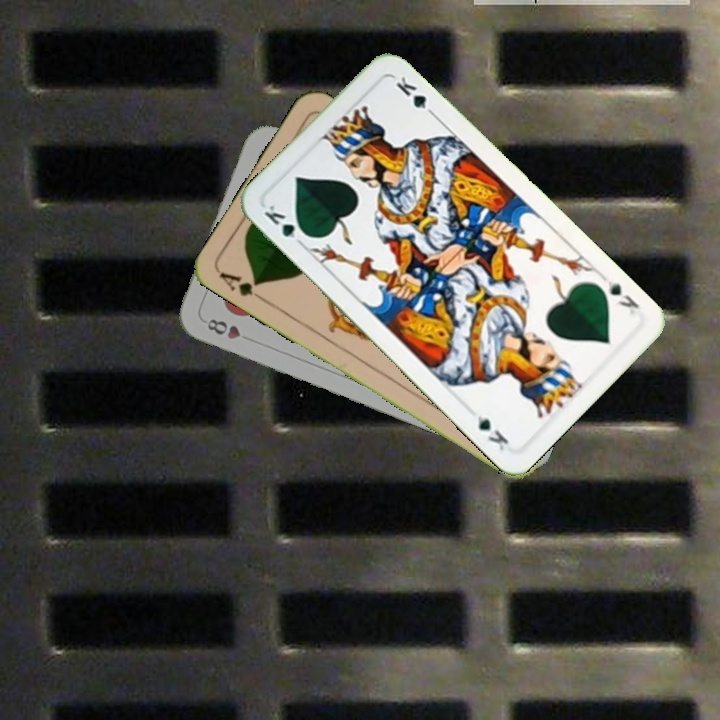GA: (215, 267, 269, 305)
GK: (260, 201, 312, 249), (603, 276, 642, 318)
H8: (203, 314, 243, 342)
